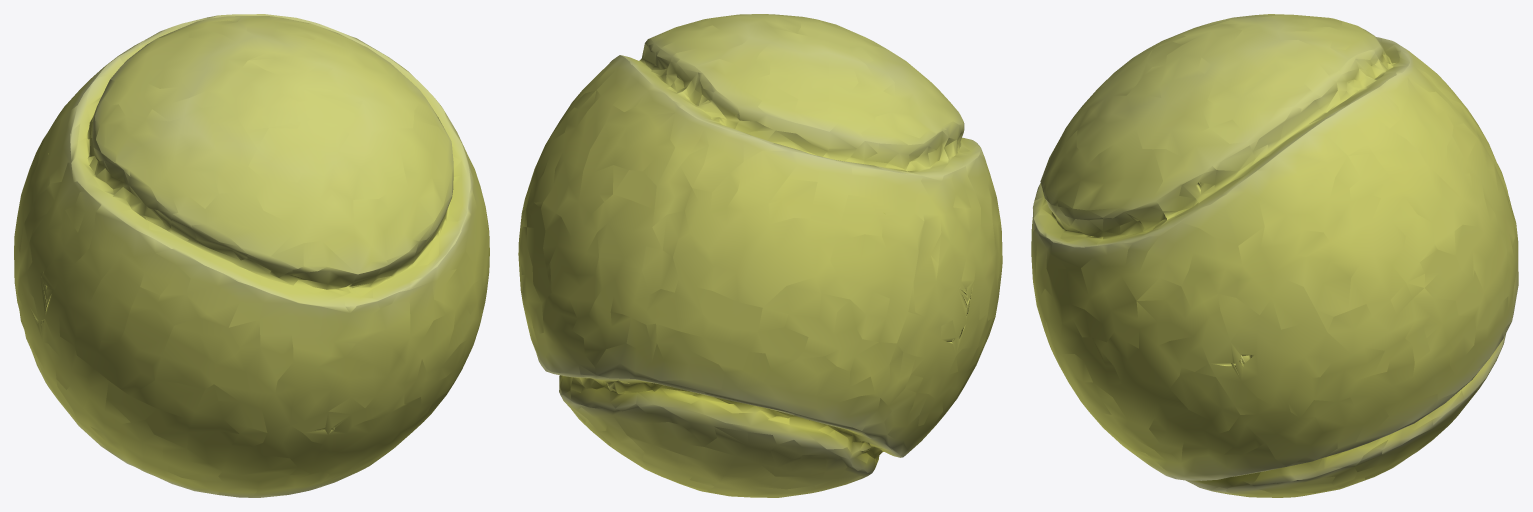
Rendered from 0017_mask_018_tennis_ball.glb.
3 views of the same model, side by side, from view 1: azimuth 30°, elevation 25°; view 2: azimuth 150°, elevation 25°; view 3: azimuth 270°, elevation 25° (orthographic).
Parts seen in each view (by area): view 1: mask_018_object; view 2: mask_018_object; view 3: mask_018_object.
Part boxes in pixels (<box>): mask_018_object: <box>14,14,489,497</box>; mask_018_object: <box>518,14,1002,497</box>; mask_018_object: <box>1031,14,1518,497</box>.
Size of the model in its own units: 0.1168 by 0.1172 by 0.1179.
